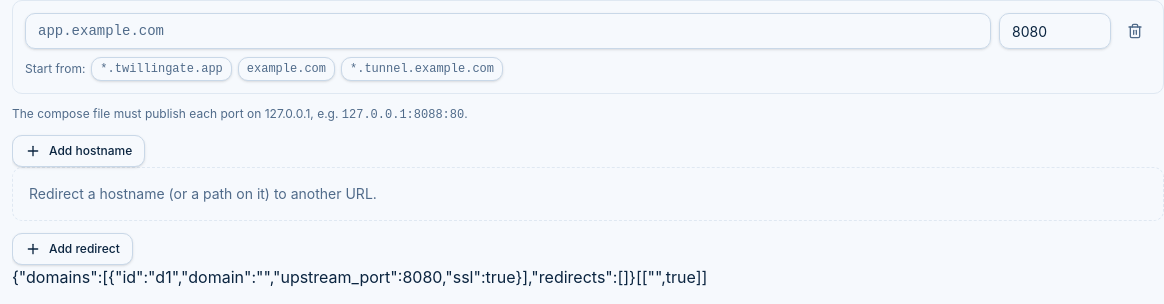
ingress rows › fills an exact registration as is and checks it on this server
Step 1. Click the button "example.com" → (286, 69), box top-left (238, 57), bottom-right (335, 81)
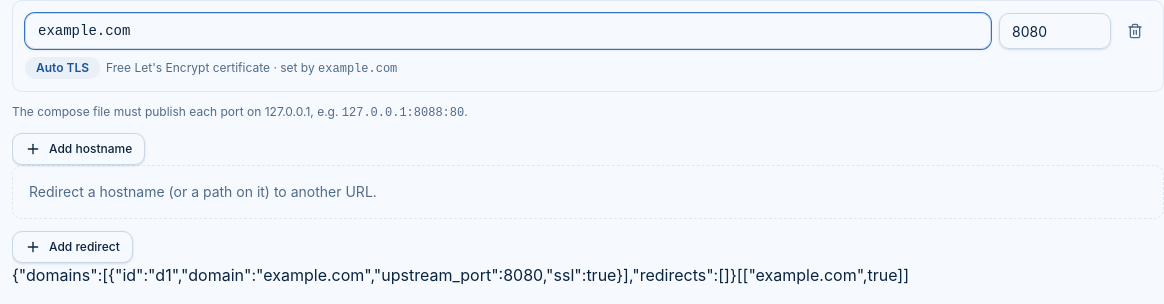
Result: the field named "Hostname" holds "example.com" at top-left (25, 13), bottom-right (991, 49)
Result: the text "Auto TLS" is shown at top-left (25, 57), bottom-right (100, 79)
Result: the text "example.com" is shown at top-left (318, 62), bottom-right (397, 76)
